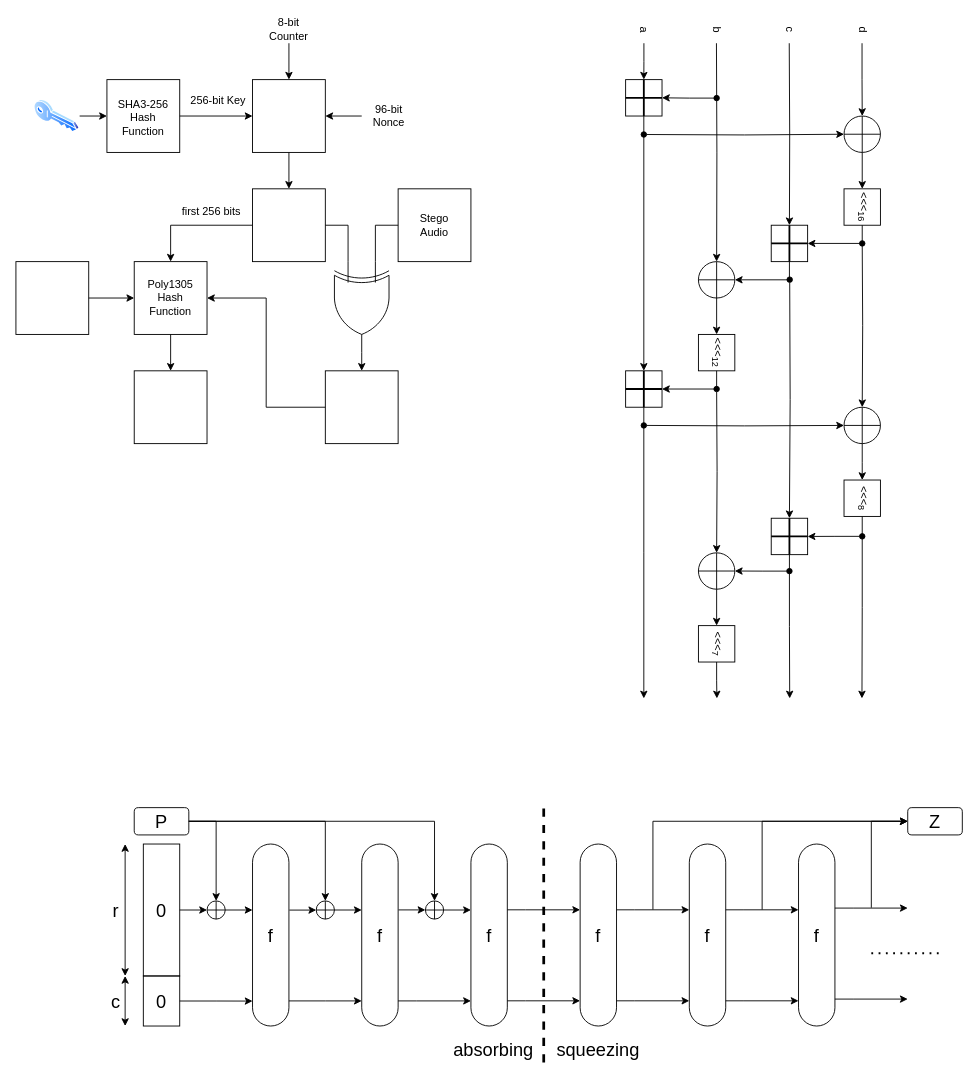
This 978x1080 diagram has some shape labels left out. Here are the shapes that lost their labels. From the top down, the centre of each, then its label:
At (x=56, y=115): "Final Ekert Key".
At (x=288, y=115): "ChaCha20 Block Function".
At (x=288, y=225): "ChaCha20 Keystream".
At (x=52, y=297): "Associated Data".
At (x=361, y=307): "XOR".
At (x=170, y=407): "Authenticator Tag".
At (x=361, y=407): "Encrypted Audio".
